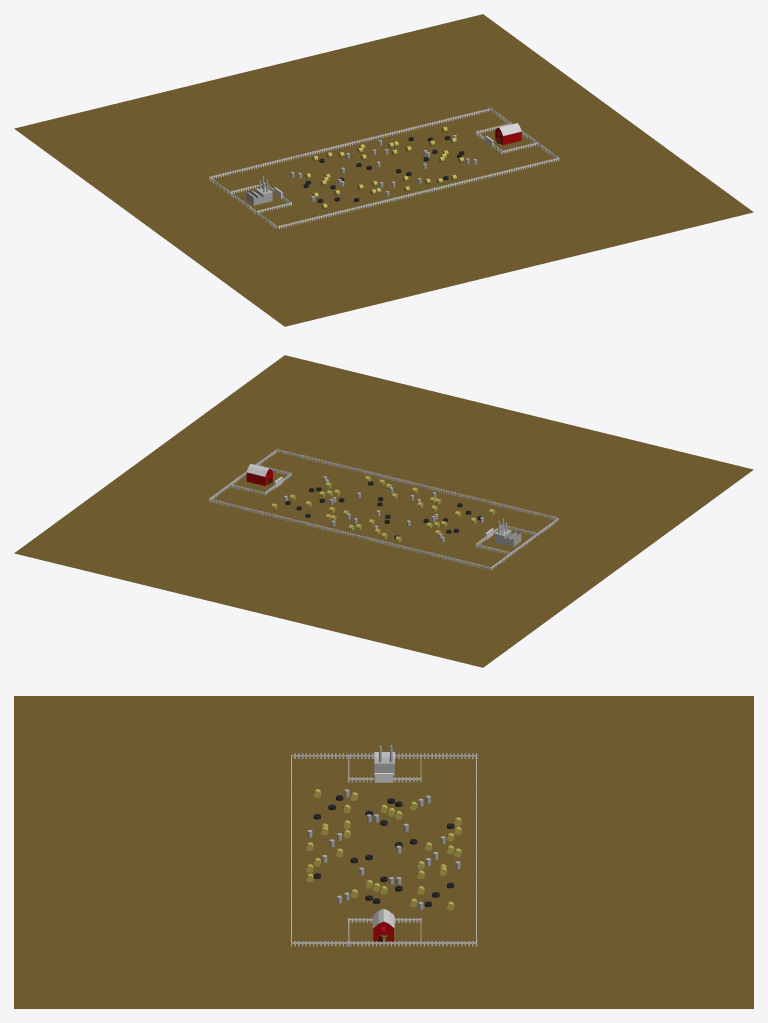
Rendered from Map5.fbx.
3 views of the same model, one above another, from view 1: azimuth 30°, elevation 25°; view 2: azimuth 150°, elevation 25°; view 3: azimuth 270°, elevation 25° (orthographic). The views are drawn at different scales.
Visible parts, largest first — view 1: Terrain, Barrieres, Obstacles; view 2: Terrain, Barrieres, Obstacles; view 3: Terrain, Obstacles, Barrieres, Ferme.
Part boxes in pixels (x1,y1,x2,y2): Terrain: (14, 14, 753, 326); Barrieres: (209, 107, 559, 229); Obstacles: (291, 126, 476, 209); Terrain: (14, 355, 753, 667); Barrieres: (208, 449, 558, 570); Obstacles: (271, 476, 495, 542); Terrain: (14, 696, 753, 1008); Obstacles: (306, 789, 461, 910); Barrieres: (291, 753, 477, 946); Ferme: (372, 908, 394, 942).
Bounding box in the file's own units: 200 × 9.78 × 200.
